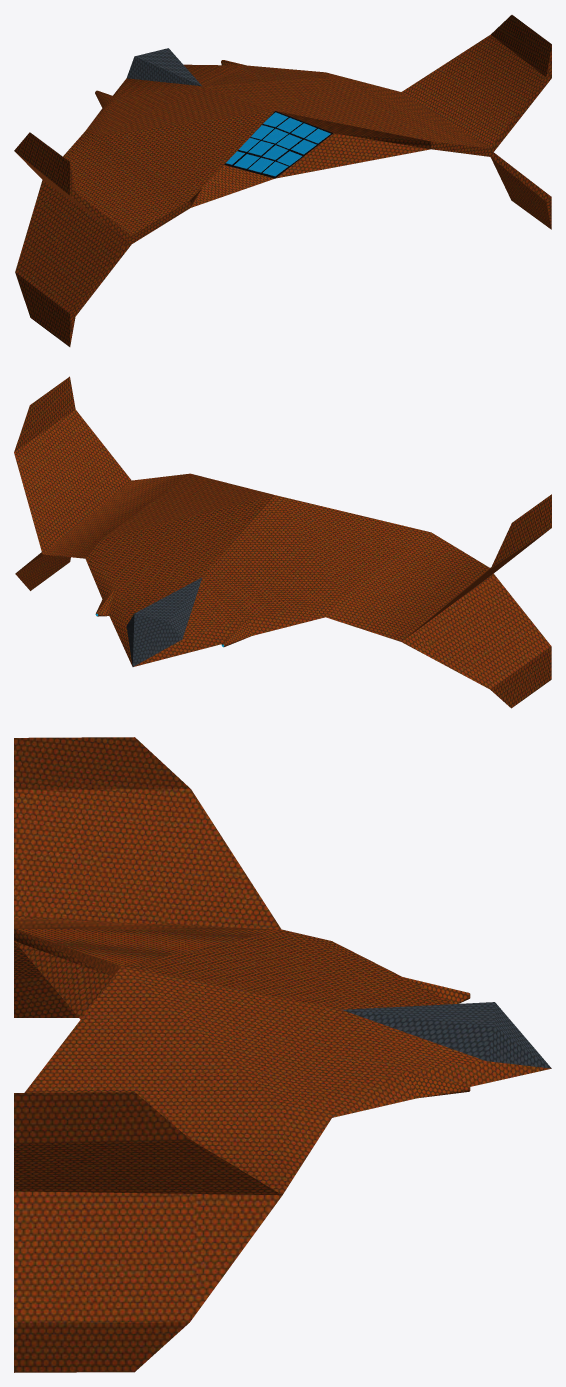
File: spaceship3.fbx
The picture shows the model from 3 angles, top to bottom: view 1: azimuth 30°, elevation 25°; view 2: azimuth 150°, elevation 25°; view 3: azimuth 270°, elevation 25°; orthographic projection. The views are drawn at different scales.
Visible parts, largest first — view 1: polySurface4; view 2: polySurface4; view 3: polySurface4.
Part boxes in pixels (bbox=[...]): polySurface4: bbox=[14, 15, 551, 346]; polySurface4: bbox=[14, 376, 551, 708]; polySurface4: bbox=[14, 737, 551, 1372].
Size of the model in its own units: 29.82 by 11 by 19.1.
